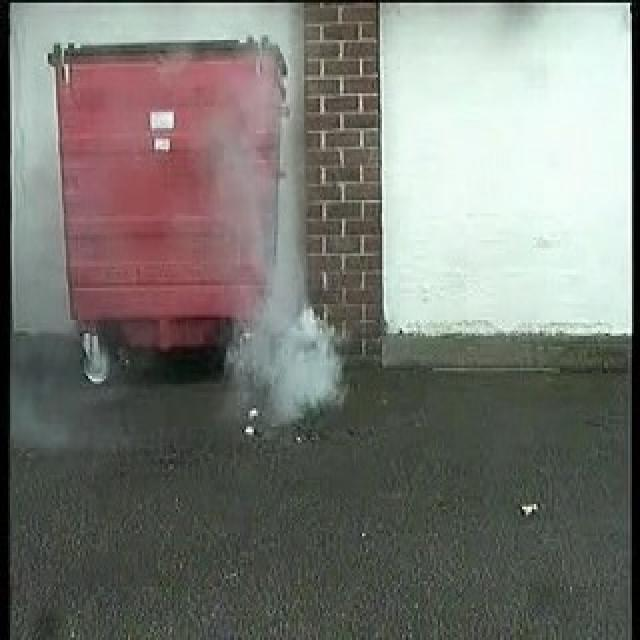Smoke: (225, 308, 342, 422)
